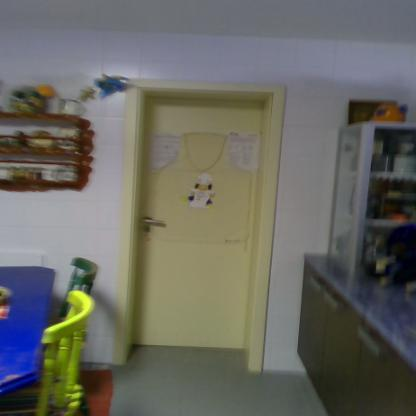door: (146, 98, 250, 348)
lever: (140, 216, 172, 230)
